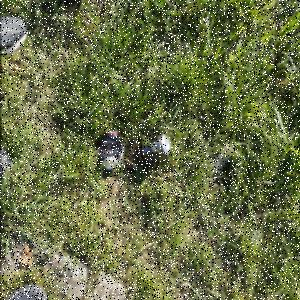Can: (139, 134, 171, 165), (100, 130, 124, 171)
